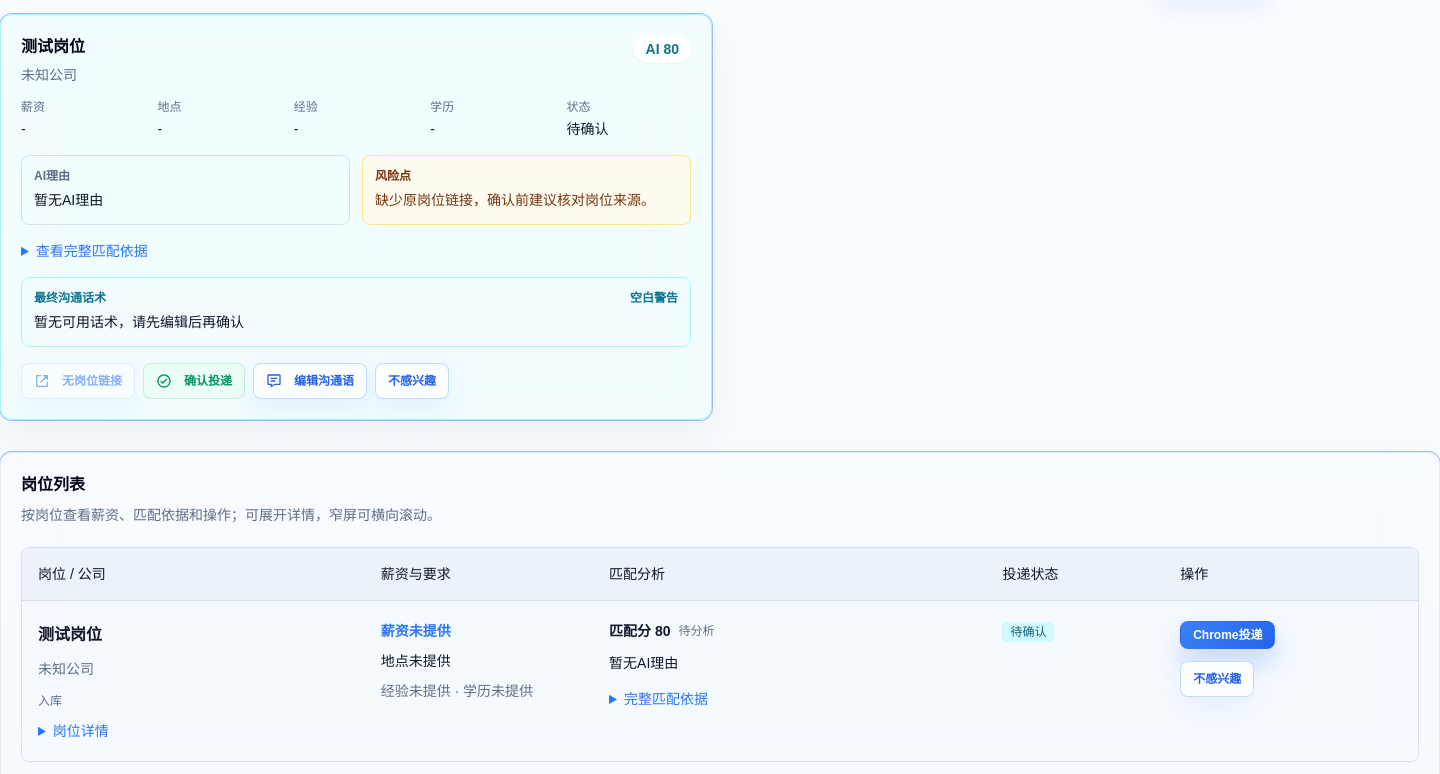
Test: 跳过失败保留待确认岗位，不自动重发写入
This screenshot has width=1440, height=774.
(page scrolled)
Click the button "不感兴趣" below "查看完整匹配依据". click: (412, 381)
box: [375, 363, 449, 399]
(page scrolled)
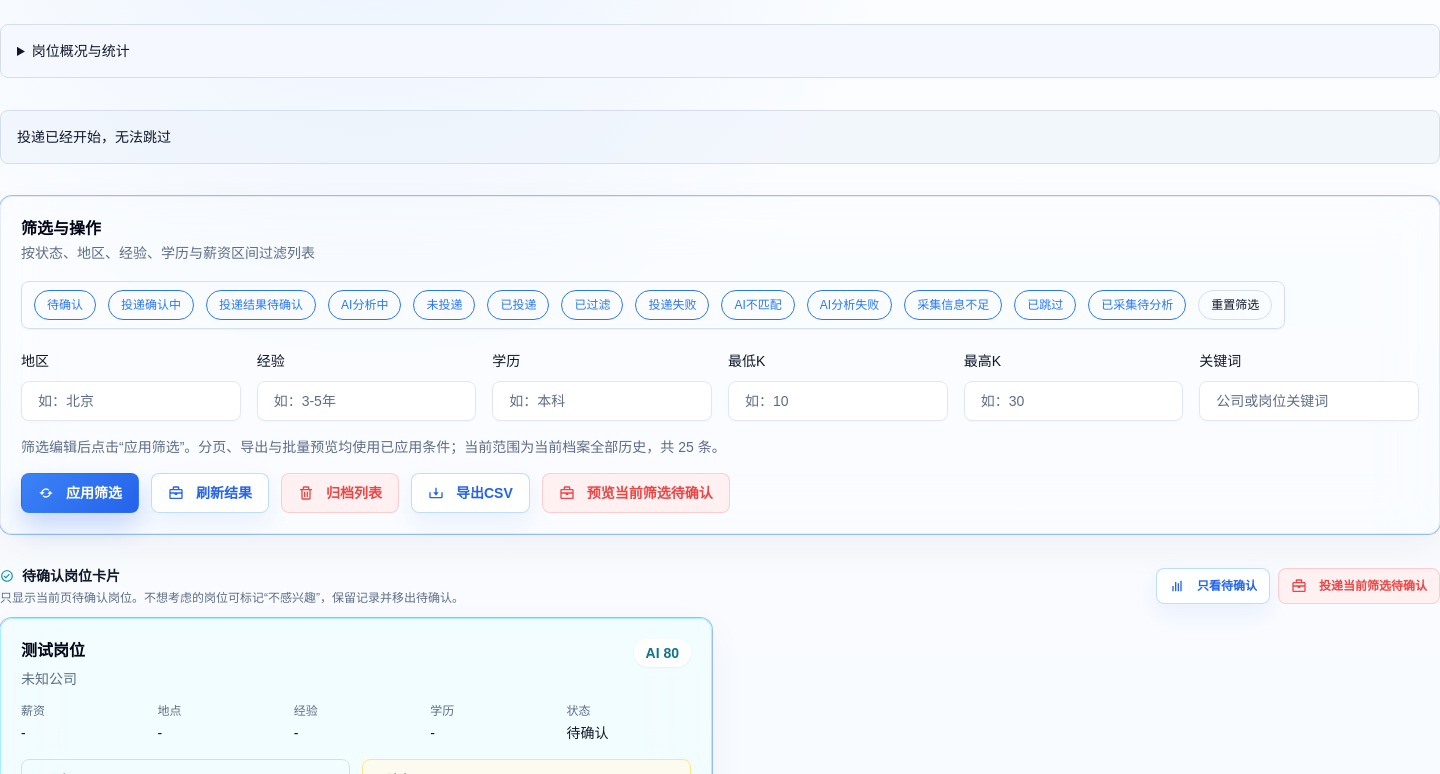
Now the text "投递已经开始，无法跳过" is shown, box [0, 110, 1439, 164]
